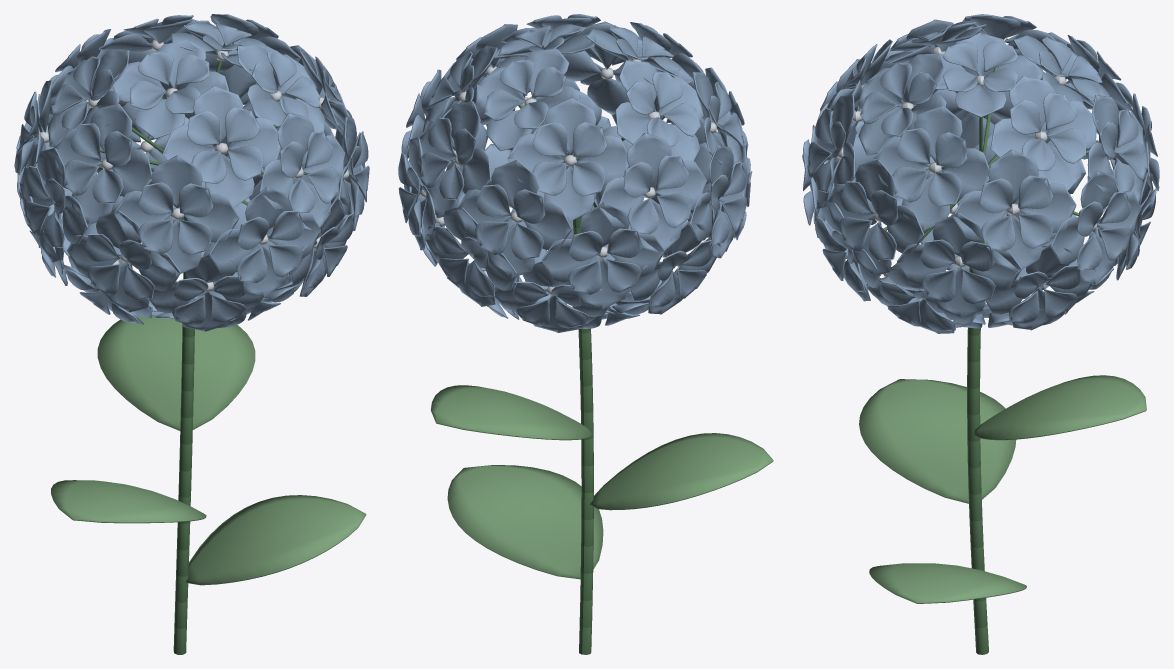
File: hydrangea-epic-v2.glb
3 views of the same model, side by side, from view 1: azimuth 30°, elevation 25°; view 2: azimuth 150°, elevation 25°; view 3: azimuth 270°, elevation 25° (orthographic).
Parts seen in each view (by area): view 1: hydrangea-epic-v2-petal, hydrangea-epic-v2-leaf, hydrangea-epic-v2-stem, hydrangea-epic-v2-center; view 2: hydrangea-epic-v2-petal, hydrangea-epic-v2-leaf, hydrangea-epic-v2-stem, hydrangea-epic-v2-center; view 3: hydrangea-epic-v2-petal, hydrangea-epic-v2-leaf, hydrangea-epic-v2-stem, hydrangea-epic-v2-center.
Part boxes in pixels (bbox=[...]): hydrangea-epic-v2-petal: bbox=[14, 14, 369, 331]; hydrangea-epic-v2-leaf: bbox=[51, 314, 366, 585]; hydrangea-epic-v2-stem: bbox=[98, 60, 307, 654]; hydrangea-epic-v2-center: bbox=[37, 39, 348, 291]; hydrangea-epic-v2-petal: bbox=[398, 14, 752, 332]; hydrangea-epic-v2-leaf: bbox=[431, 385, 773, 579]; hydrangea-epic-v2-stem: bbox=[518, 104, 624, 654]; hydrangea-epic-v2-center: bbox=[420, 47, 716, 295]; hydrangea-epic-v2-petal: bbox=[802, 14, 1159, 333]; hydrangea-epic-v2-leaf: bbox=[859, 375, 1146, 603]; hydrangea-epic-v2-stem: bbox=[883, 66, 1088, 654]; hydrangea-epic-v2-center: bbox=[837, 46, 1115, 310].
Bounding box in the file's own units: 1 × 1.89 × 0.9874.
